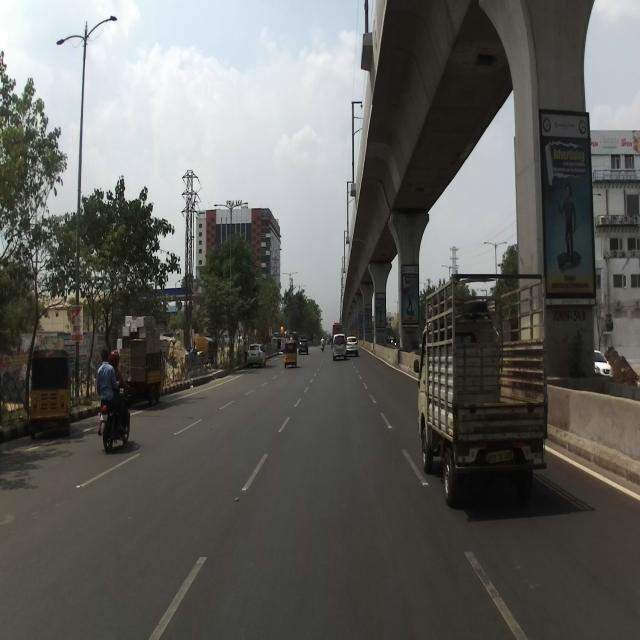autorickshaw: (116, 314, 166, 406)
motorcycle_Honda: (97, 375, 131, 454)
truck: (413, 273, 548, 507)
